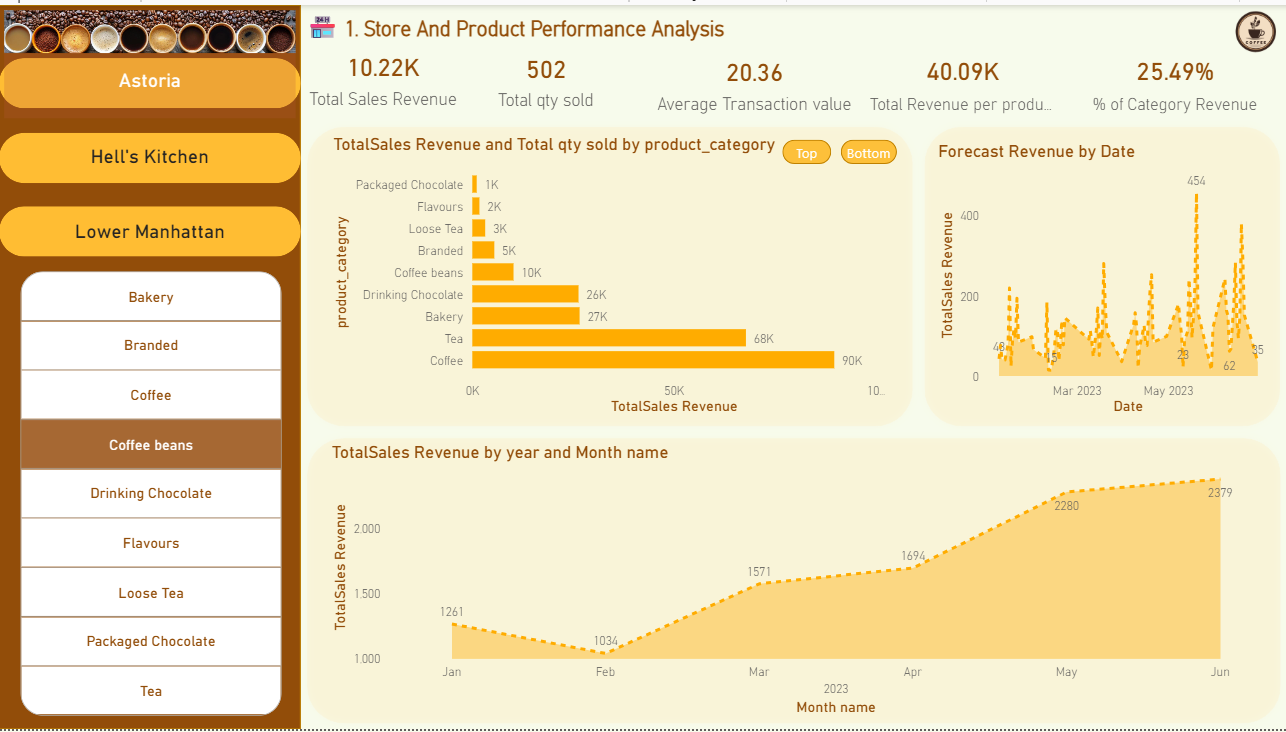

What the dashboard file says about the page in this screenshot:
{"tool":"powerbi","page":{"name":"Dashboard","canvas":[1280,720],"ordinal":0},"visuals":[{"type":"shape","box":[914.3,114.3,365.7,310],"z":0},{"type":"shape","box":[300,114.3,614.3,310],"z":1000},{"type":"shape","box":[0,0,300,720],"z":2000},{"type":"textbox","box":[300,0,467.1,42.9],"z":3000},{"type":"image","box":[1220.7,0,59.5,52.7],"z":4000},{"type":"card","fields":{"Values":["_measures.TotalSales Revenue"]},"box":[285.7,10,192.9,124.3],"z":5000},{"type":"card","fields":{"Values":["_measures.Total qty sold"]},"box":[445.7,11.4,194.3,124.3],"z":6000},{"type":"card","fields":{"Values":["_measures.Average Transaction value"]},"box":[640,32.9,222.9,88.6],"z":7000},{"type":"shape","box":[0,53.3,300,50],"z":8000},{"type":"shape","box":[0,126.7,300,50],"z":9000},{"type":"shape","box":[0,200,300,50],"z":10000},{"type":"advancedSlicerVisual","fields":{"Values":["Transactions.store_location"]},"box":[0,32.9,300,237.1],"z":11000},{"type":"barChart","fields":{"Category":["Transactions.product_category"],"Y":["_measures.TotalSales Revenue"]},"box":[327.1,128.6,560,282.9],"z":13000},{"type":"cardVisual","fields":{"Data":["_measures.Total Revenue per product category","_measures.% of Category Revenue"]},"box":[847.1,27.1,432.9,107.1],"z":14000},{"type":"shape","box":[778.6,134.3,48.6,24.3],"z":15000},{"type":"shape","box":[837.1,134.3,55.7,24.3],"z":16000},{"type":"shape","box":[300,424.3,980,295.7],"z":17000},{"type":"lineChart","fields":{"Y":["_measures.TotalSales Revenue"],"Category":["dimdate.year","dimdate.Month name"]},"box":[325.7,435.7,954.3,275.7],"z":18000},{"type":"advancedSlicerVisual","fields":{"Values":["Transactions.product_category"]},"box":[15.7,260,270,460],"z":19000},{"type":"lineChart","title":"Forecast Revenue by Date","fields":{"Y":["_measures.TotalSales Revenue"],"Category":["dimdate.Date"]},"box":[928.6,135.7,351.4,275.7],"z":20000},{"type":"image","box":[0,0,300.1,52.7],"z":20001}]}

Visuals, with their boxes in screenshot pixels (x1, y1, x2, y2), scaled from the page's 1280x720 canvas onto the 1286x732 screenshot:
shape: {"left": 919, "top": 116, "right": 1285, "bottom": 431}
shape: {"left": 301, "top": 116, "right": 919, "bottom": 431}
shape: {"left": 0, "top": 0, "right": 301, "bottom": 731}
textbox: {"left": 301, "top": 0, "right": 771, "bottom": 44}
image: {"left": 1226, "top": 0, "right": 1285, "bottom": 54}
card - _measures.TotalSales Revenue: {"left": 287, "top": 10, "right": 481, "bottom": 137}
card - _measures.Total qty sold: {"left": 448, "top": 12, "right": 643, "bottom": 138}
card - _measures.Average Transaction value: {"left": 643, "top": 33, "right": 867, "bottom": 124}
shape: {"left": 0, "top": 54, "right": 301, "bottom": 105}
shape: {"left": 0, "top": 129, "right": 301, "bottom": 180}
shape: {"left": 0, "top": 203, "right": 301, "bottom": 254}
advancedSlicerVisual - Transactions.store_location: {"left": 0, "top": 33, "right": 301, "bottom": 274}
barChart - Transactions.product_category x _measures.TotalSales Revenue: {"left": 329, "top": 131, "right": 891, "bottom": 418}
cardVisual - _measures.Total Revenue per product category x _measures.% of Category Revenue: {"left": 851, "top": 28, "right": 1285, "bottom": 136}
shape: {"left": 782, "top": 137, "right": 831, "bottom": 161}
shape: {"left": 841, "top": 137, "right": 897, "bottom": 161}
shape: {"left": 301, "top": 431, "right": 1285, "bottom": 731}
lineChart - _measures.TotalSales Revenue x dimdate.year: {"left": 327, "top": 443, "right": 1285, "bottom": 723}
advancedSlicerVisual - Transactions.product_category: {"left": 16, "top": 264, "right": 287, "bottom": 731}
"Forecast Revenue by Date" lineChart: {"left": 933, "top": 138, "right": 1285, "bottom": 418}
image: {"left": 0, "top": 0, "right": 302, "bottom": 54}
